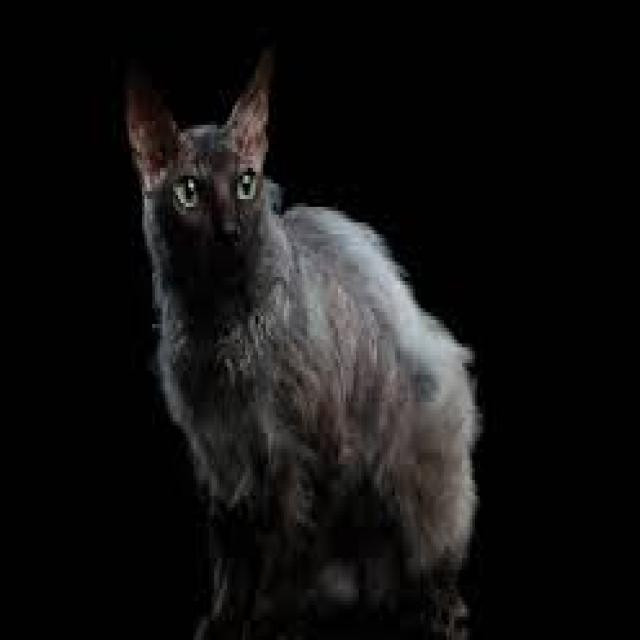Lykoi: (114, 27, 482, 640)
